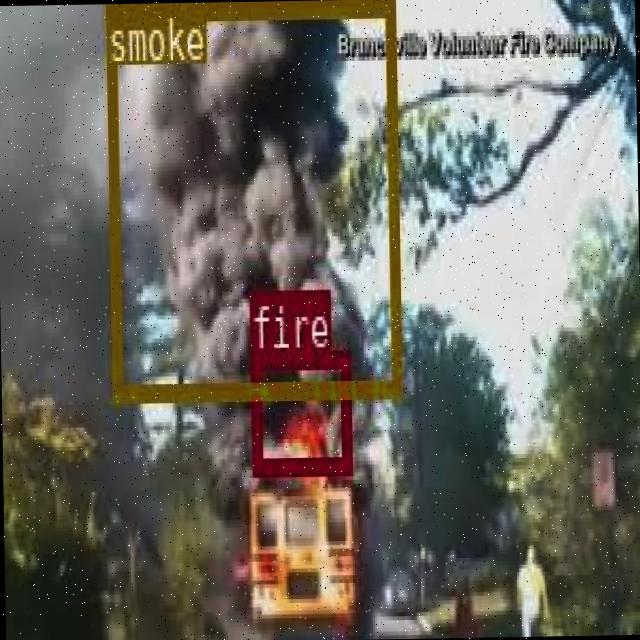fire: (249, 348, 349, 473)
smoke: (104, 0, 399, 399)
